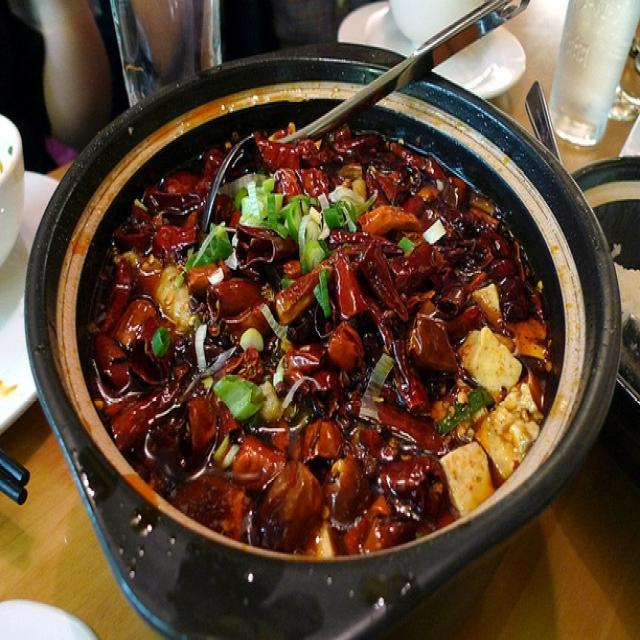汤锅炖物: (20, 28, 627, 618)
